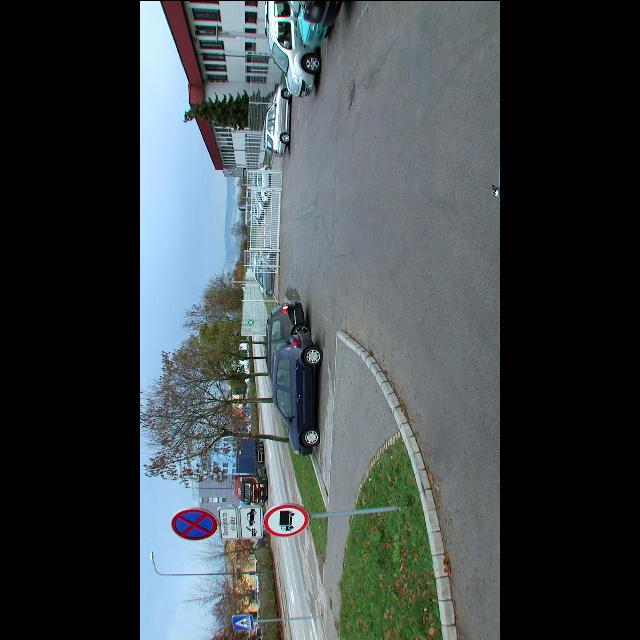Rectangle: (240, 503, 262, 539), (220, 506, 238, 536)
Round: (265, 502, 311, 536), (169, 507, 217, 539)
Squared: (232, 612, 254, 630)
